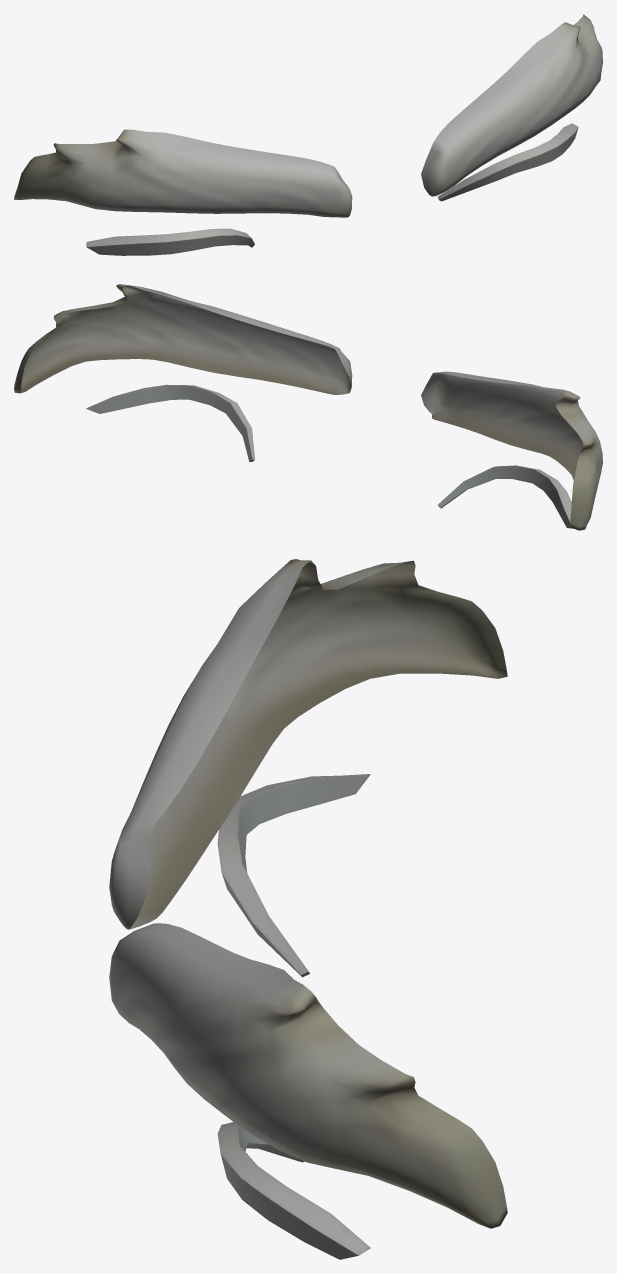
File: Eyebrows_Regular.gltf
3 views of the same model, one above another, from view 1: azimuth 30°, elevation 25°; view 2: azimuth 150°, elevation 25°; view 3: azimuth 270°, elevation 25° (orthographic). The views are drawn at different scales.
Visible parts, largest first — view 1: Eyebrows_Regular; view 2: Eyebrows_Regular; view 3: Eyebrows_Regular.
Boxes of the visible parts, <box> form: Eyebrows_Regular: <box>14,14,602,255</box>; Eyebrows_Regular: <box>14,284,602,530</box>; Eyebrows_Regular: <box>109,559,507,1259</box>.
Bounding box in the file's own units: 0.1247 × 0.0306 × 0.0376.
1 material, 1 textured.
